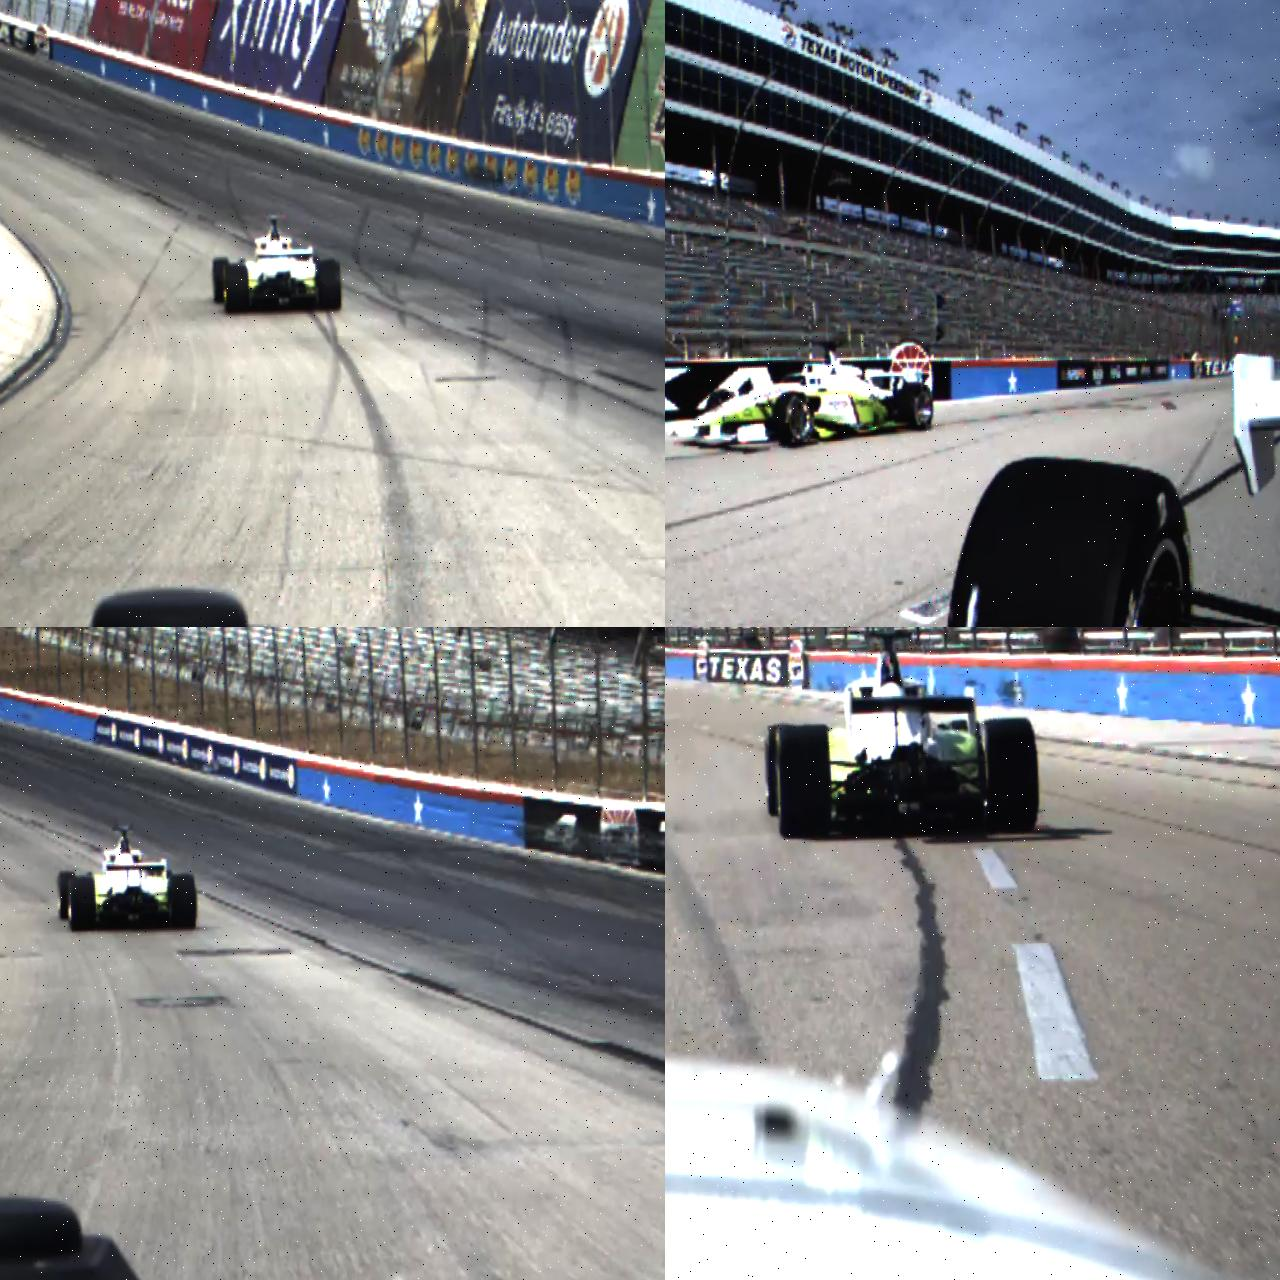AV: (760, 627, 1040, 843), (667, 336, 934, 452), (54, 822, 197, 934), (210, 211, 342, 314)
Wheel: (937, 449, 1201, 627), (981, 716, 1040, 835), (775, 723, 831, 839), (765, 723, 797, 816), (774, 390, 816, 448), (704, 388, 737, 443), (901, 381, 934, 433), (168, 873, 197, 930), (68, 876, 95, 932), (223, 263, 248, 314), (315, 260, 341, 311), (56, 870, 76, 919), (211, 257, 230, 304)
